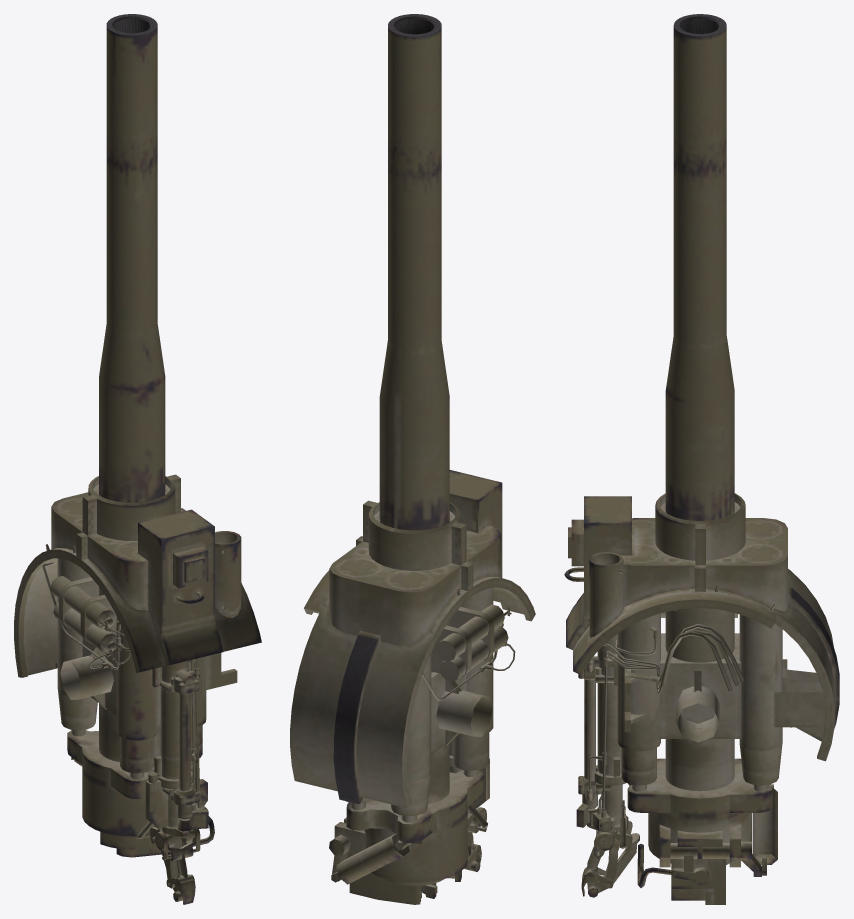
The model's file is Gun_02.glb.
3 renders of one model, left to right at view 1: azimuth 30°, elevation 25°; view 2: azimuth 150°, elevation 25°; view 3: azimuth 270°, elevation 25°, orthographic. The views are drawn at different scales.
Parts seen in each view (by area): view 1: set_0_group_0; view 2: set_0_group_0; view 3: set_0_group_0.
Boxes of the visible parts, bbox=[...] form: set_0_group_0: bbox=[14, 14, 261, 904]; set_0_group_0: bbox=[290, 14, 535, 904]; set_0_group_0: bbox=[564, 14, 839, 904].
Size of the model in its own units: 0.7092 by 3.91 by 1.12.
1 material, 1 textured.
